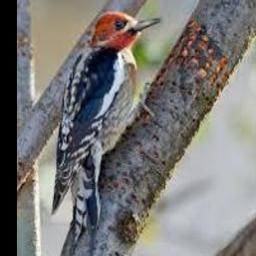Woodpecker: (52, 11, 162, 256)
